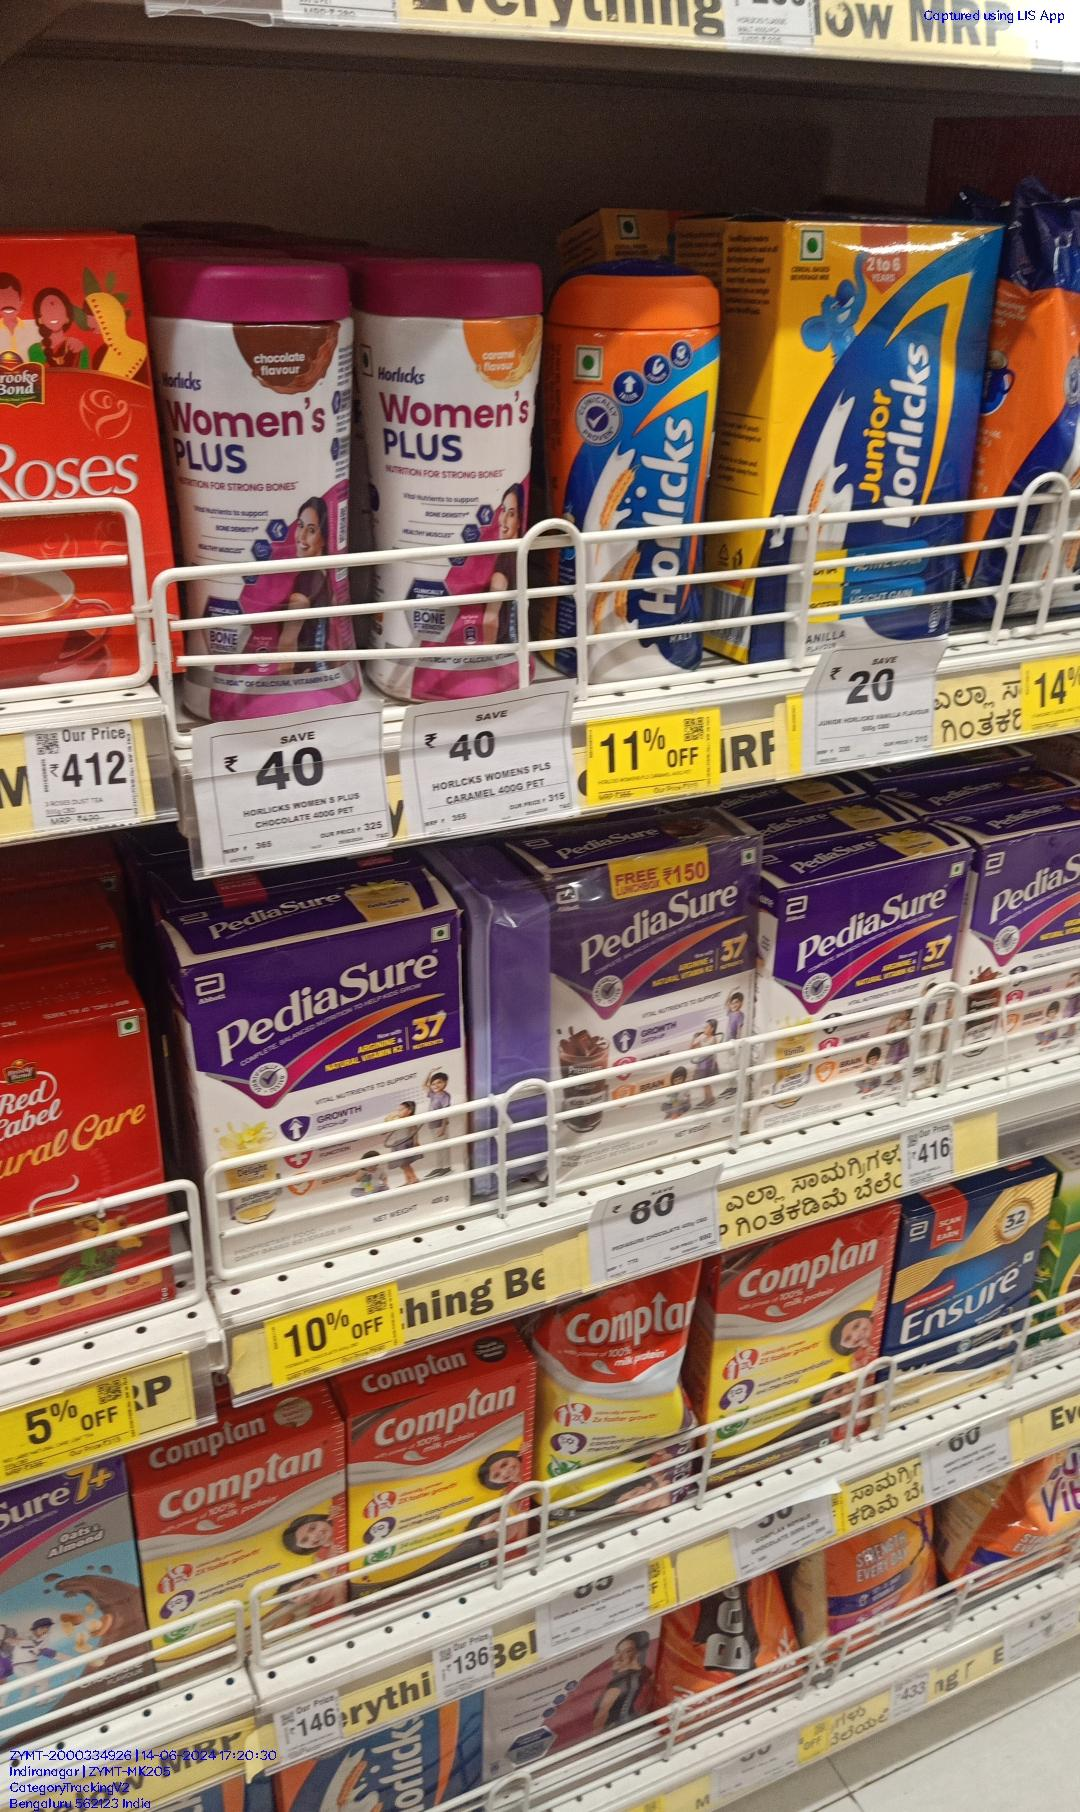COMPLAN_CHOCOLATE_200_GMS_PACK: (350, 1388, 531, 1572)
COMPLAN_CHOCOLATE_500_GMS_PACK: (712, 1217, 882, 1447)
COMPLAN_KESAR_BADAM_500_GMS_PACK: (147, 1439, 347, 1655)
ENSURE_VANILLA_400_G_PACK: (882, 1185, 1039, 1412)
HORLICKS_JUNIOR_VANILLA_500_GM_JAR: (554, 267, 716, 680)
HORLICK_CHOCOLATE_750_G_POUCH: (541, 1290, 694, 1524)
